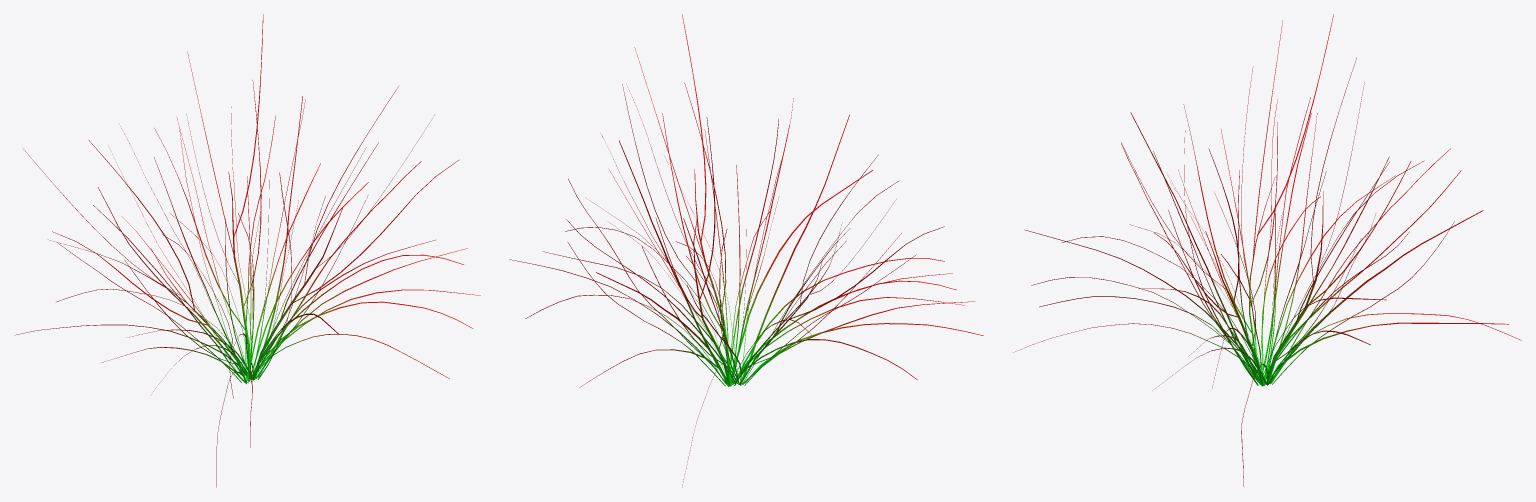
The model's file is Xeric Grass_LOD0_Var2_xjfgdhaqx.fbx.
3 views of the same model, side by side, from view 1: azimuth 30°, elevation 25°; view 2: azimuth 150°, elevation 25°; view 3: azimuth 270°, elevation 25° (orthographic). The views are drawn at different scales.
Visible parts, largest first — view 1: _gpw5_Var2_LOD0; view 2: _gpw5_Var2_LOD0; view 3: _gpw5_Var2_LOD0.
Boxes of the visible parts, bbox=[...] form: _gpw5_Var2_LOD0: bbox=[14, 14, 480, 487]; _gpw5_Var2_LOD0: bbox=[509, 14, 983, 487]; _gpw5_Var2_LOD0: bbox=[1013, 14, 1521, 486].
Size of the model in its own units: 155 by 110 by 153.
